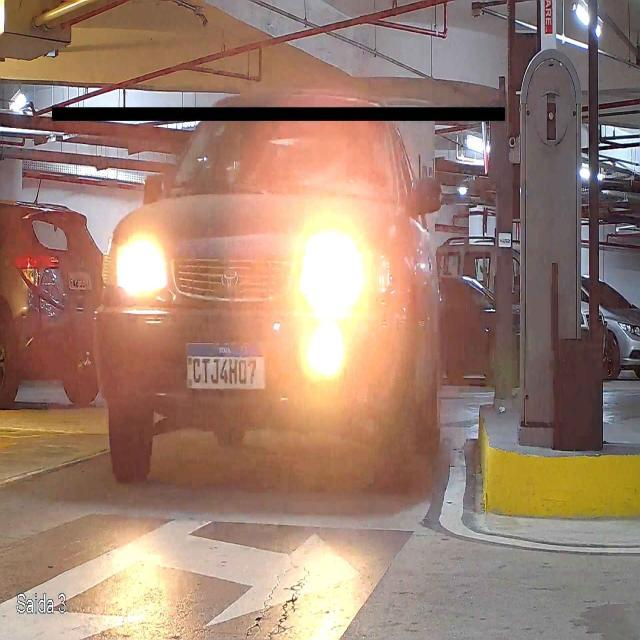mercosul_plate: (183, 342, 268, 390)
